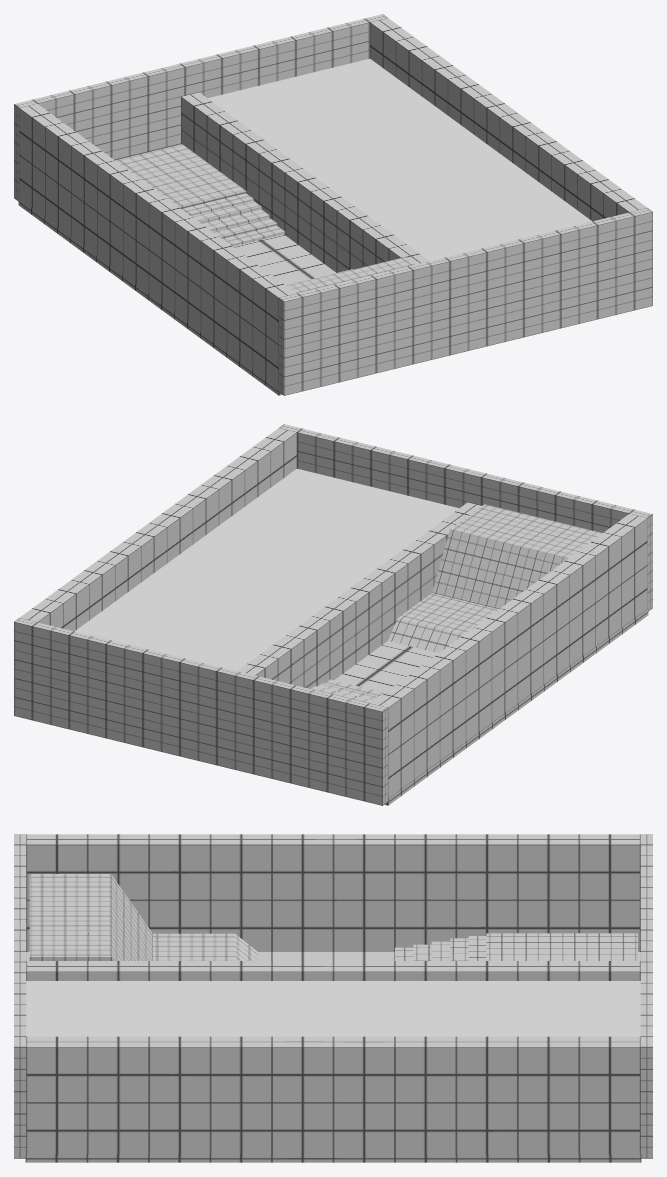
The model's file is world.fbx.
3 views of the same model, one above another, from view 1: azimuth 30°, elevation 25°; view 2: azimuth 150°, elevation 25°; view 3: azimuth 270°, elevation 25° (orthographic). The views are drawn at different scales.
Visible parts, largest first — view 1: Wall Back, Plane, Wall Side, Wall Front, Wall Side.002, Wall Side.001, Stairs, World, Ramp; view 2: Wall Front, Plane, Wall Side, Ramp, Wall Side.001, Wall Side.002, Wall Back, World, Stairs; view 3: Wall Side.001, Wall Side, Plane, Wall Side.002, Ramp, World, Stairs, Wall Front, Wall Back.
Boxes of the visible parts, x1,y1,x2,y2 form: Wall Back: (279,208,652,395); Plane: (208,58,591,260); Wall Side: (19,103,296,388); Wall Front: (14,14,387,201); Wall Side.002: (181,92,429,272); Wall Side.001: (370,18,647,221); Stairs: (115,144,284,246); World: (18,199,335,395); Ramp: (286,257,414,293); Wall Front: (14,618,387,805); Plane: (75,468,458,670); Wall Side: (370,513,647,798); Ramp: (388,504,602,653); Wall Side.001: (19,428,296,631); Wall Side.002: (237,502,481,688); Wall Back: (279,424,652,611); World: (334,609,648,805); Stairs: (310,679,384,703); Wall Side.001: (26,1036,640,1154); Wall Side: (26,834,640,951); Plane: (26,981,640,1036); Wall Side.002: (26,961,640,980); Ramp: (29,874,258,960); World: (25,952,641,1162); Stairs: (395,933,637,960); Wall Front: (640,834,652,1158); Wall Back: (14,834,26,1158).
Size of the model in its own units: 4109 by 1036 by 5200.
